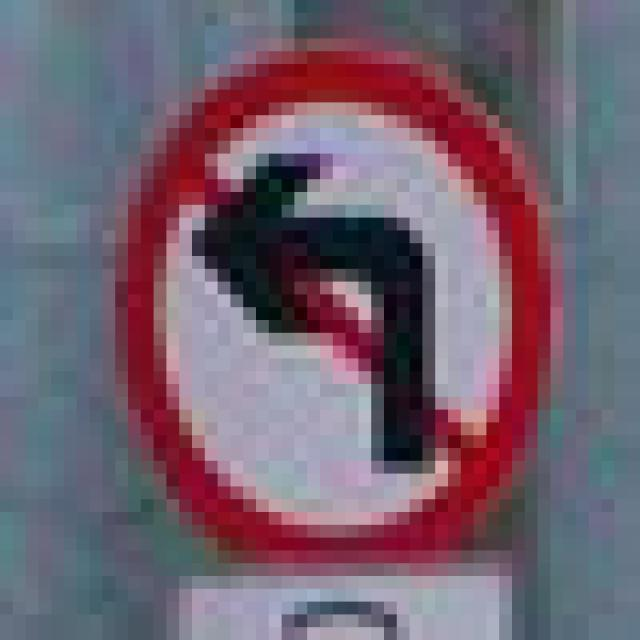left turn prohibited: (102, 43, 559, 561)
